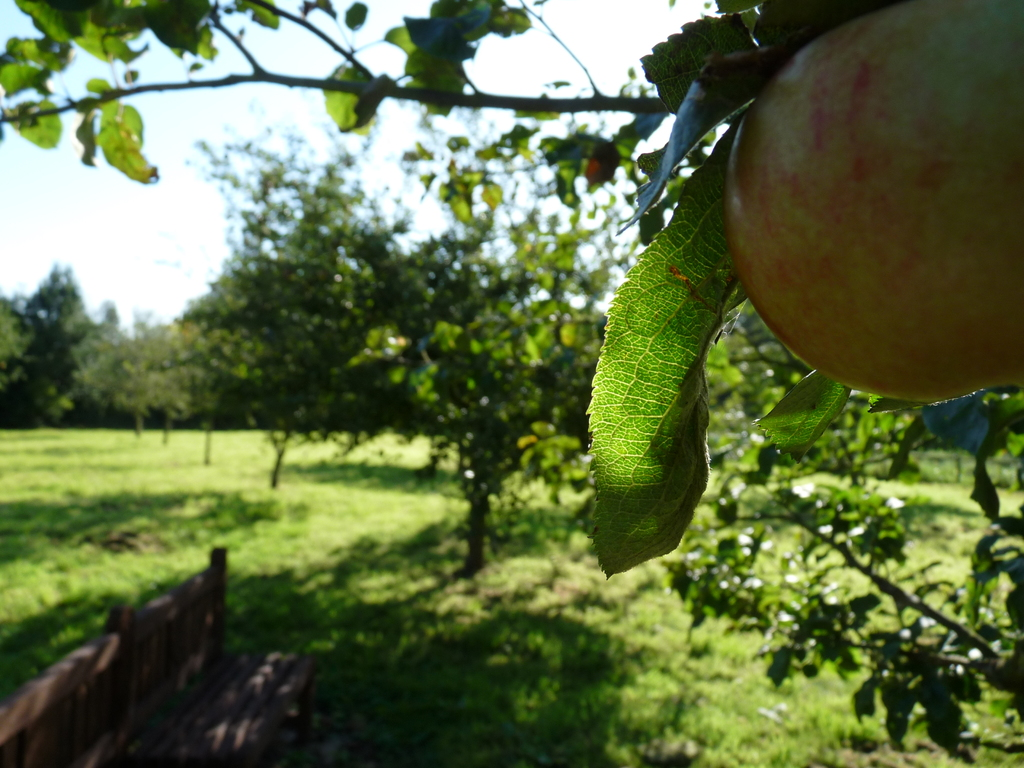Apple: (723, 19, 1013, 423)
